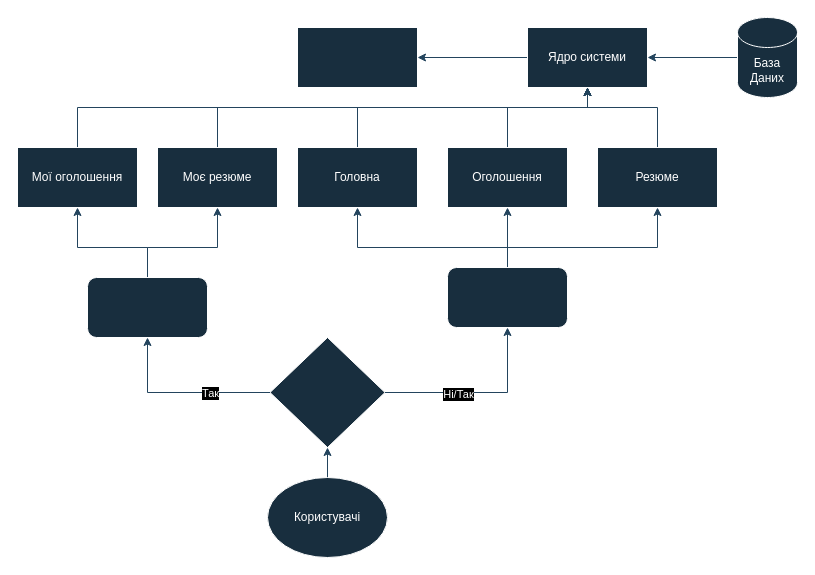
This 815x575 diagram has some shape labels left out. The shapes that lost their labels are listed below. From the top down, each one's centre as x and y in pixels, then its label:
(357,57): Інтерфейс Керування
(147,307): Редагування
(507,297): Перегляд та читання
(327,392): Чи зареєстрований користувач?
